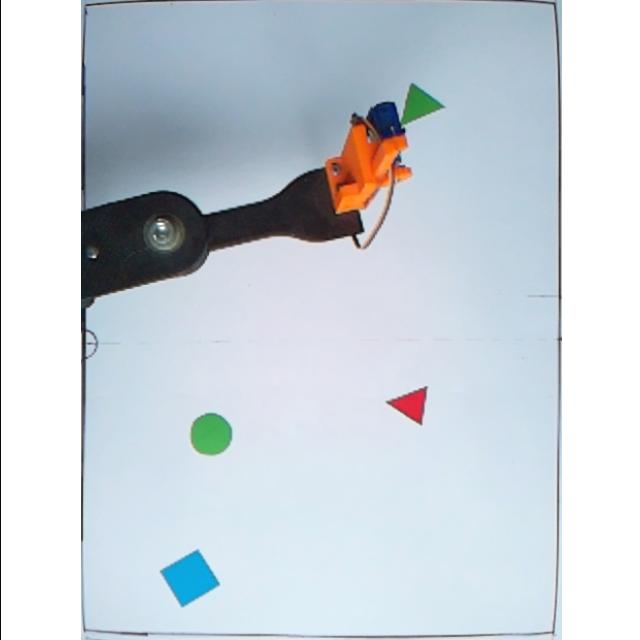blueSquare: (156, 548, 218, 608)
greenCircle: (185, 412, 232, 456)
greenTriangle: (393, 83, 443, 129)
redTriangle: (382, 384, 426, 426)
